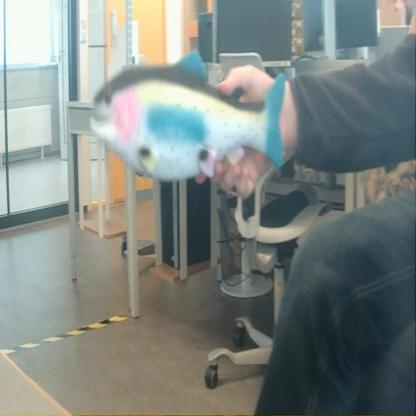rubberfish: (86, 46, 291, 186)
